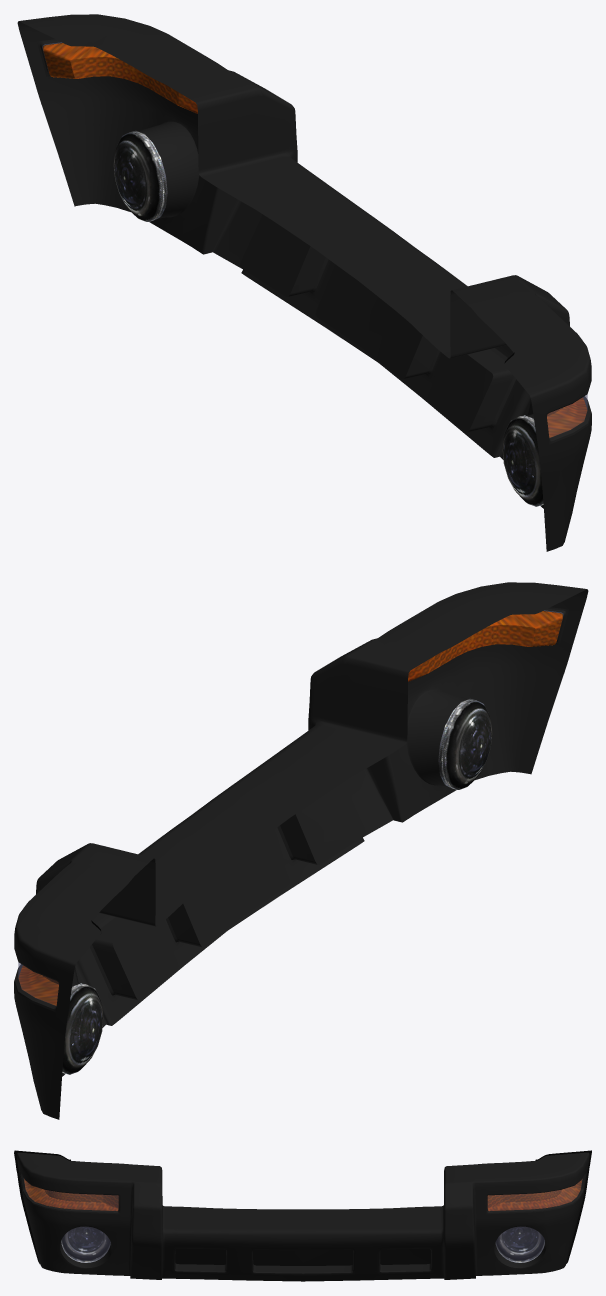
3 views of the same model, one above another, from view 1: azimuth 30°, elevation 25°; view 2: azimuth 150°, elevation 25°; view 3: azimuth 270°, elevation 25° (orthographic). The views are drawn at different scales.
Parts seen in each view (by area): view 1: J725_021G_C_J725_021G_C_4_D, J725_021G_C_J725_021G_C_4_D_E, J725_021G_C_J725_021G_C_5_N, J725_021G_C_J725_021G_C_6_N, J725_021G_C_J725_021G_C_1_N, J725_021G_C_J725_021G_C_7_DTaSI, J725_021G_C_J725_021G_C_2_N; view 2: J725_021G_C_J725_021G_C_4_D, J725_021G_C_J725_021G_C_4_D_E, J725_021G_C_J725_021G_C_1_N, J725_021G_C_J725_021G_C_2_N, J725_021G_C_J725_021G_C_5_N, J725_021G_C_J725_021G_C_10_DTaSI, J725_021G_C_J725_021G_C_6_N; view 3: J725_021G_C_J725_021G_C_4_D, J725_021G_C_J725_021G_C_4_D_E, J725_021G_C_J725_021G_C_2_N, J725_021G_C_J725_021G_C_6_N, J725_021G_C_J725_021G_C_7_DTaSI, J725_021G_C_J725_021G_C_10_DTaSI, J725_021G_C_J725_021G_C_1_N, J725_021G_C_J725_021G_C_5_N, J725_021G_C_J725_021G_C_8_DTaSI, J725_021G_C_9_DTaSI_J725_021G_C, J725_021G_C_J725_021G_C_12_D, J725_021G_C_J725_021G_C_11_D.
Boxes of the visible parts, bbox=[...] form: J725_021G_C_J725_021G_C_4_D: bbox=[17, 14, 591, 551]; J725_021G_C_J725_021G_C_4_D_E: bbox=[40, 40, 591, 441]; J725_021G_C_J725_021G_C_5_N: bbox=[113, 131, 167, 221]; J725_021G_C_J725_021G_C_6_N: bbox=[43, 43, 197, 113]; J725_021G_C_J725_021G_C_1_N: bbox=[502, 415, 543, 506]; J725_021G_C_J725_021G_C_7_DTaSI: bbox=[547, 394, 587, 437]; J725_021G_C_J725_021G_C_2_N: bbox=[547, 397, 587, 437]; J725_021G_C_J725_021G_C_4_D: bbox=[14, 582, 588, 1119]; J725_021G_C_J725_021G_C_4_D_E: bbox=[14, 608, 565, 1009]; J725_021G_C_J725_021G_C_1_N: bbox=[438, 699, 492, 789]; J725_021G_C_J725_021G_C_2_N: bbox=[408, 611, 562, 681]; J725_021G_C_J725_021G_C_5_N: bbox=[62, 983, 103, 1074]; J725_021G_C_J725_021G_C_10_DTaSI: bbox=[18, 962, 58, 1005]; J725_021G_C_J725_021G_C_6_N: bbox=[18, 965, 58, 1005]; J725_021G_C_J725_021G_C_4_D: bbox=[16, 1152, 589, 1281]; J725_021G_C_J725_021G_C_4_D_E: bbox=[20, 1172, 585, 1273]; J725_021G_C_J725_021G_C_2_N: bbox=[24, 1179, 118, 1210]; J725_021G_C_J725_021G_C_6_N: bbox=[487, 1179, 582, 1210]; J725_021G_C_J725_021G_C_7_DTaSI: bbox=[24, 1179, 118, 1210]; J725_021G_C_J725_021G_C_10_DTaSI: bbox=[488, 1179, 582, 1210]; J725_021G_C_J725_021G_C_1_N: bbox=[61, 1226, 110, 1262]; J725_021G_C_J725_021G_C_5_N: bbox=[495, 1226, 544, 1262]; J725_021G_C_J725_021G_C_8_DTaSI: bbox=[61, 1227, 110, 1262]; J725_021G_C_9_DTaSI_J725_021G_C: bbox=[496, 1227, 544, 1262]; J725_021G_C_J725_021G_C_12_D: bbox=[14, 1150, 70, 1263]; J725_021G_C_J725_021G_C_11_D: bbox=[535, 1150, 591, 1263].
Size of the model in its own units: 35.31 by 41.01 by 208.
